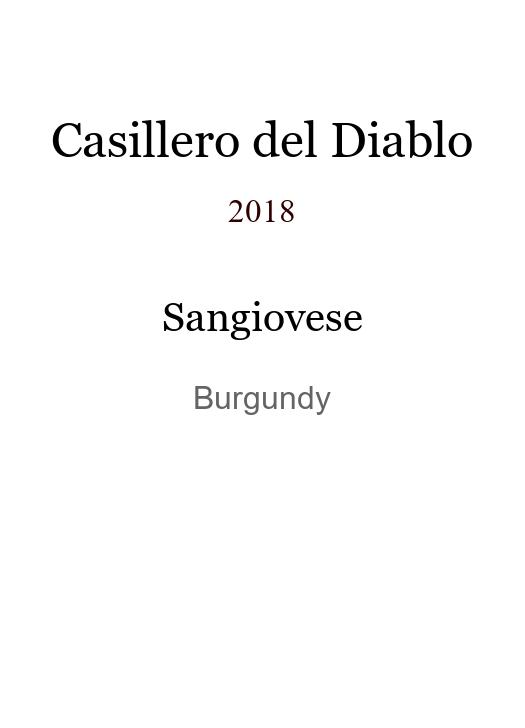brand: (51, 112, 473, 150)
region: (193, 380, 331, 409)
variety: (162, 293, 363, 332)
vintage: (228, 192, 296, 214)
